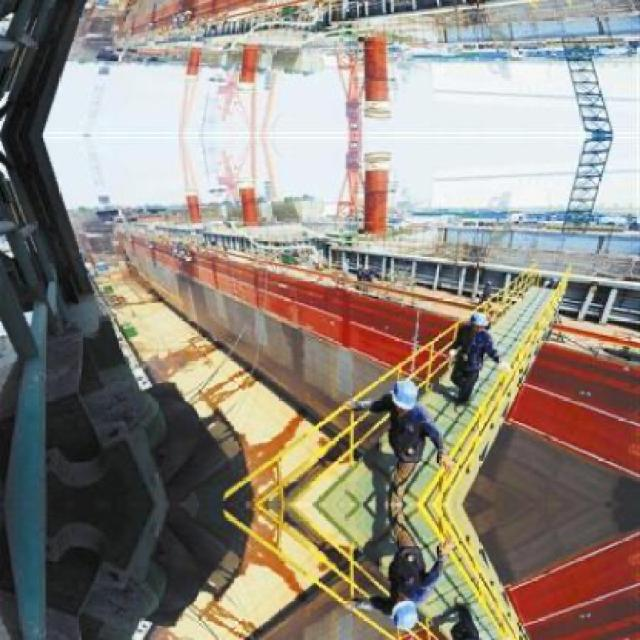con casco: (394, 573, 474, 640), (452, 289, 538, 349), (381, 370, 449, 418)
